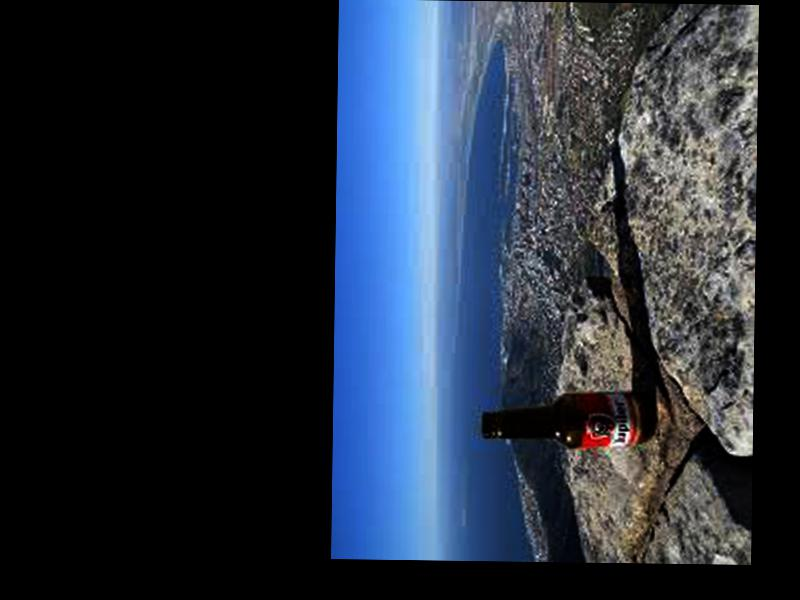Beer: (480, 389, 649, 450)
